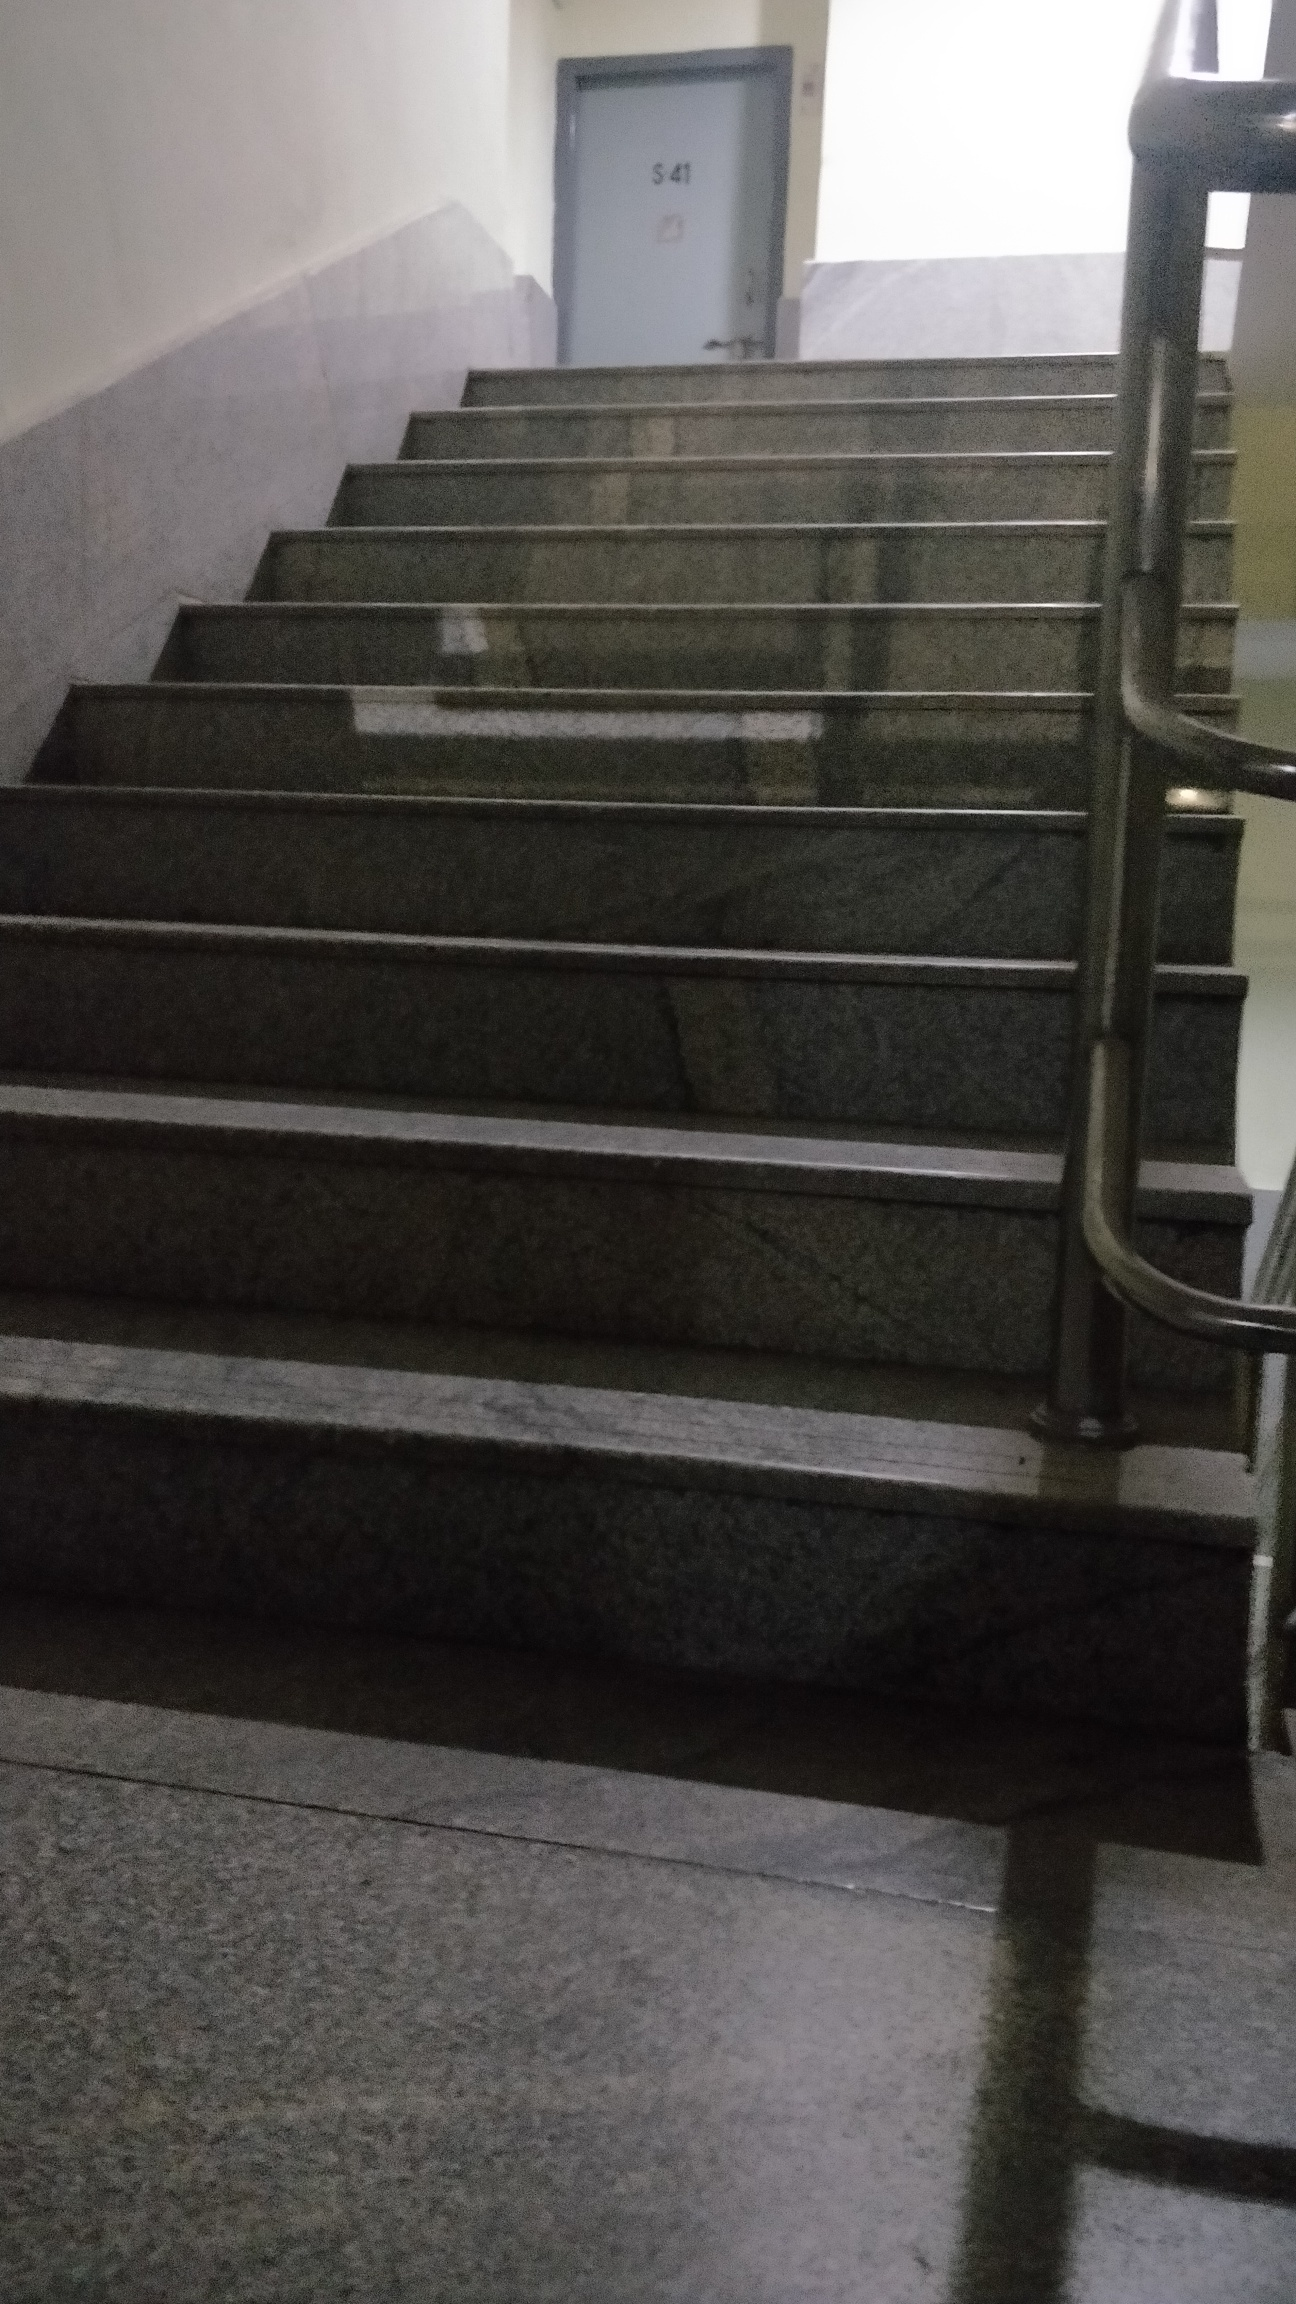stairs_up: (2, 312, 1252, 1711)
